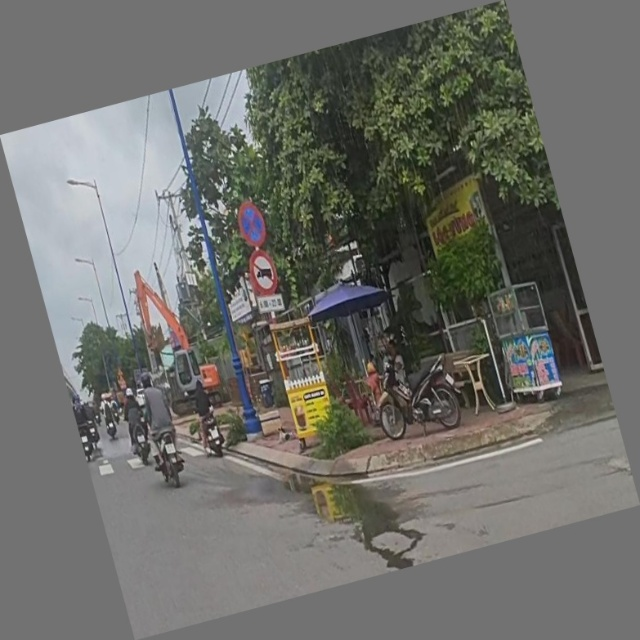B.8a: (245, 247, 281, 298)
P.130: (233, 199, 270, 249)
